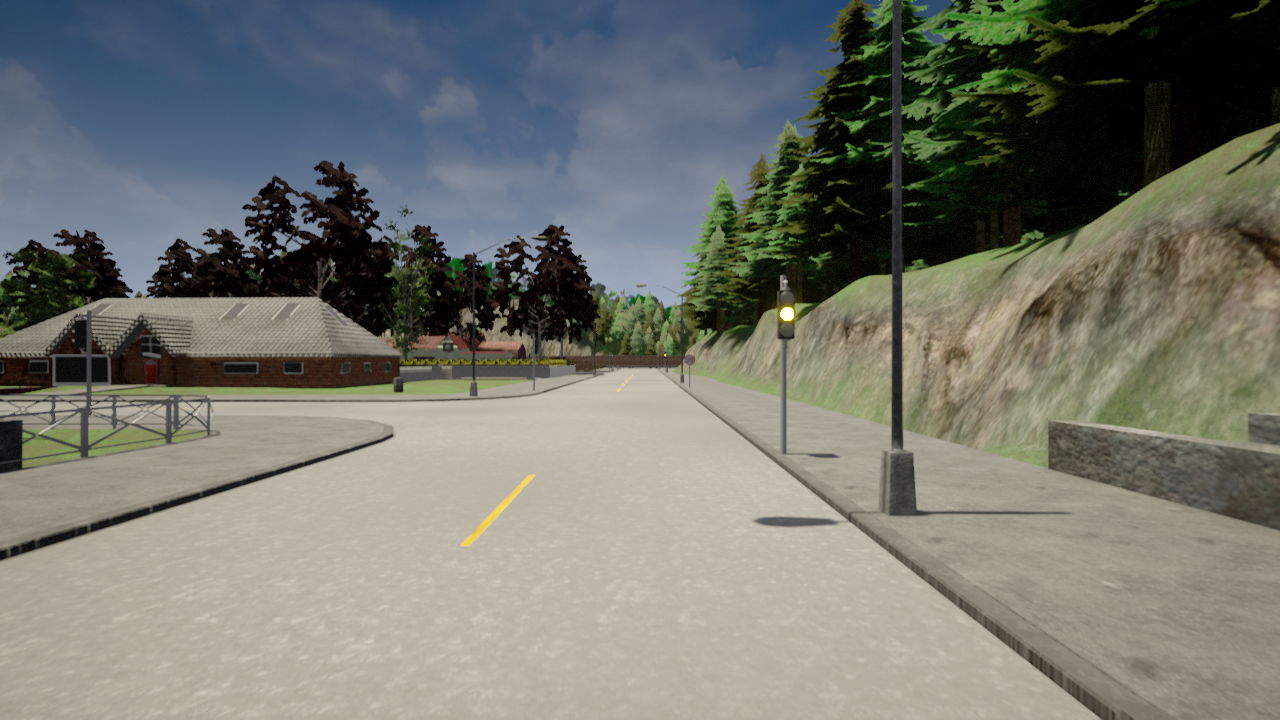yellow: (775, 288, 798, 340)
